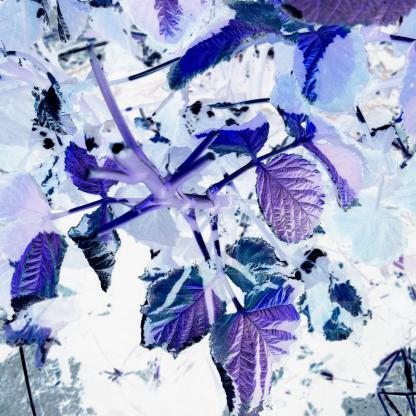raspberry leaf: (254, 155, 328, 246), (189, 115, 274, 154)
